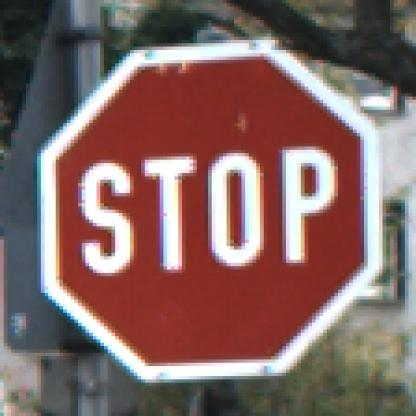stop: (30, 27, 393, 389)
